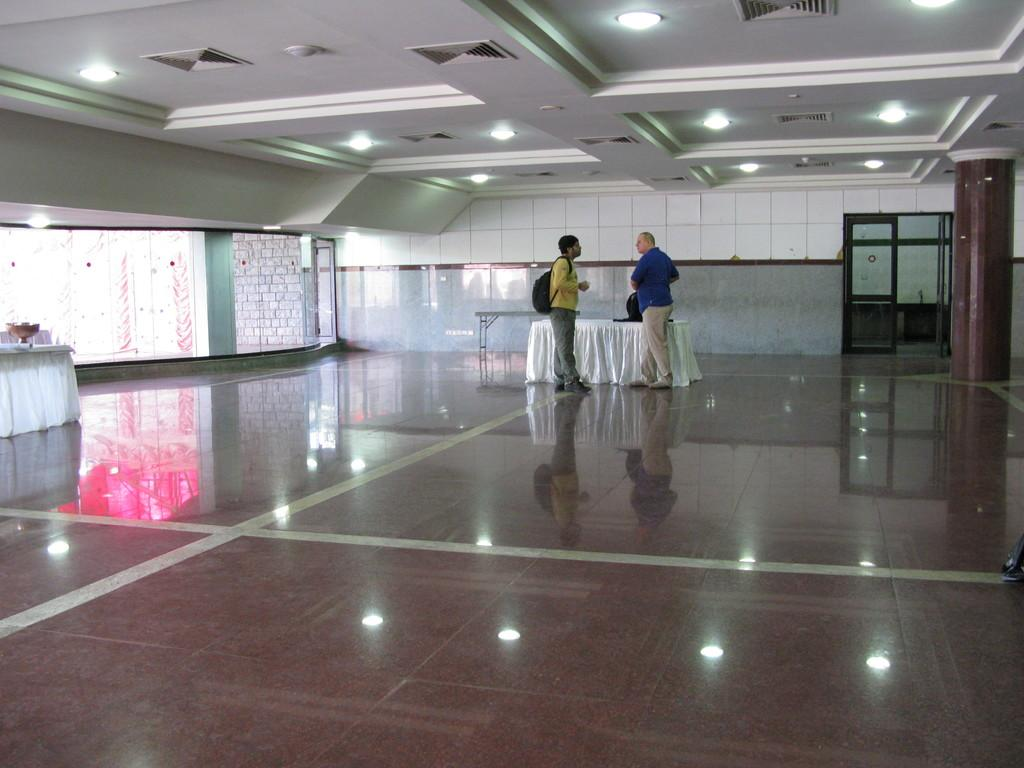Luggage-and-bags: (529, 255, 573, 313), (621, 294, 673, 320)
